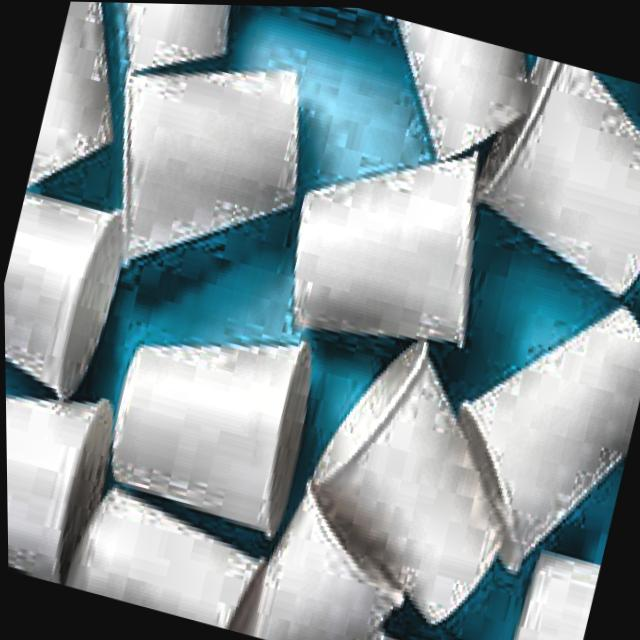Cup: (288, 315, 547, 640), (68, 21, 331, 316), (429, 251, 640, 601), (262, 98, 517, 377), (86, 301, 338, 546), (448, 43, 640, 304), (2, 167, 143, 411), (233, 477, 417, 640), (4, 364, 129, 590)
